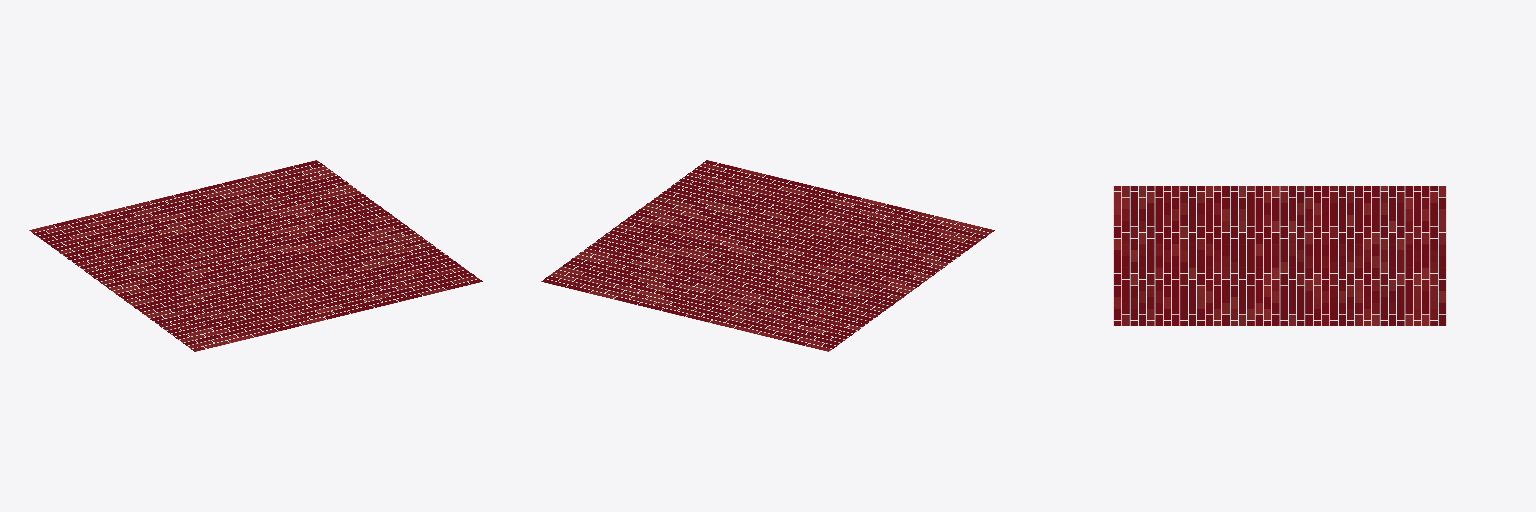
3 renders of one model, left to right at view 1: azimuth 30°, elevation 25°; view 2: azimuth 150°, elevation 25°; view 3: azimuth 270°, elevation 25°, orthographic.
Parts seen in each view (by area): view 1: Plane; view 2: Plane; view 3: Plane.
Part boxes in pixels (x1,y1,x2,y2): Plane: (29,160,482,351); Plane: (541,160,994,351); Plane: (1113,186,1446,325).
Bounding box in the file's own units: 20 × 0 × 20.
Materials: 1 (1 with a texture image).